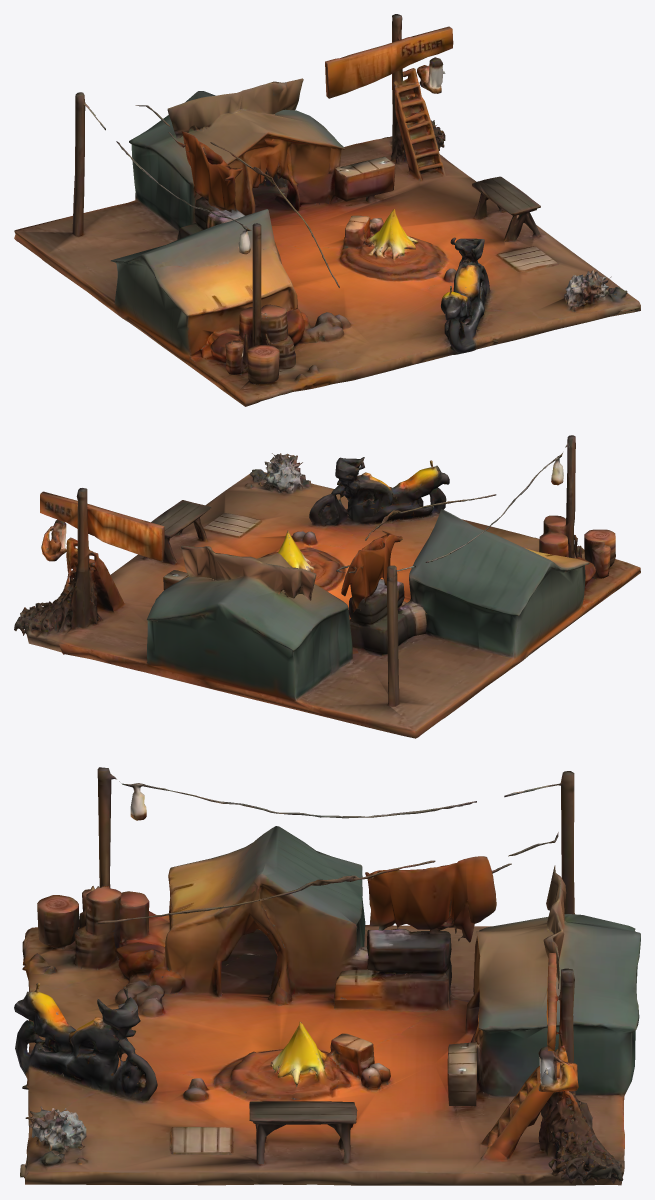
Rendered from camp.glb.
3 views of the same model, one above another, from view 1: azimuth 30°, elevation 25°; view 2: azimuth 150°, elevation 25°; view 3: azimuth 270°, elevation 25° (orthographic). The views are drawn at different scales.
Bounding box in the file's own units: 1.98 × 0.7005 × 2.
1 material, 1 textured.
